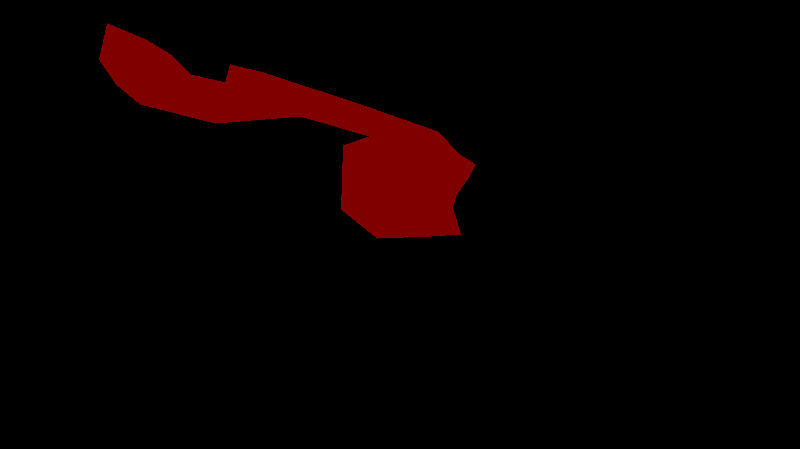fire: (99, 23, 475, 238)
